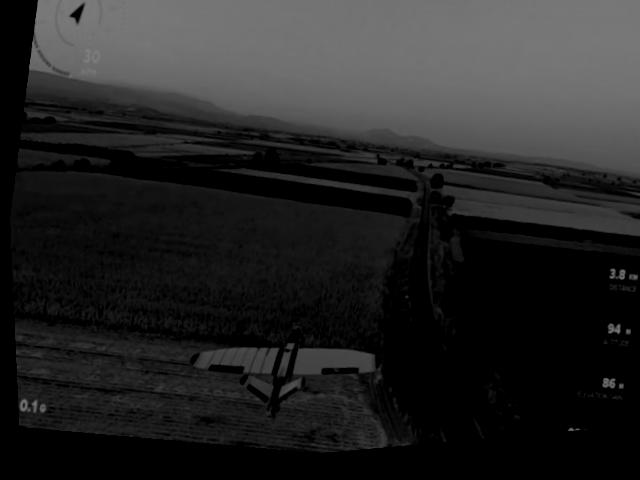hedef: (172, 301, 390, 453)
